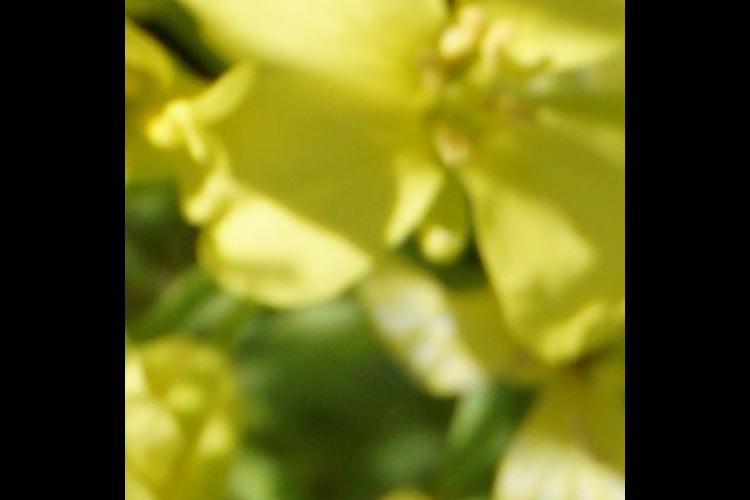yellow: (189, 1, 619, 278)
